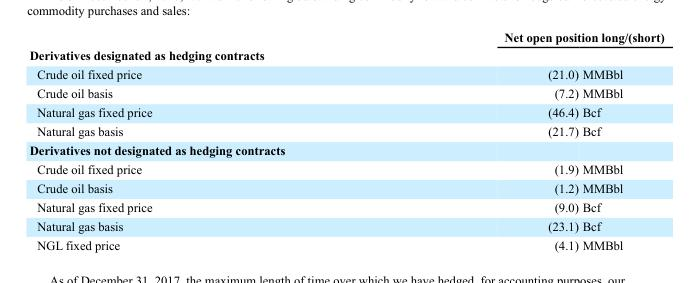table: (28, 29, 663, 251)
table column: (28, 29, 327, 251), (327, 29, 579, 251), (579, 29, 663, 251)
table column header: (28, 29, 663, 45)
table projected row header: (28, 45, 663, 64), (28, 140, 663, 159)
table row: (28, 45, 663, 64), (28, 64, 663, 83), (28, 83, 663, 102), (28, 102, 663, 121), (28, 121, 663, 140), (28, 140, 663, 159), (28, 159, 663, 178), (28, 178, 663, 197), (28, 197, 663, 216), (28, 216, 663, 235), (28, 29, 663, 45), (28, 235, 663, 251)
table spanning cell: (327, 29, 663, 45)
